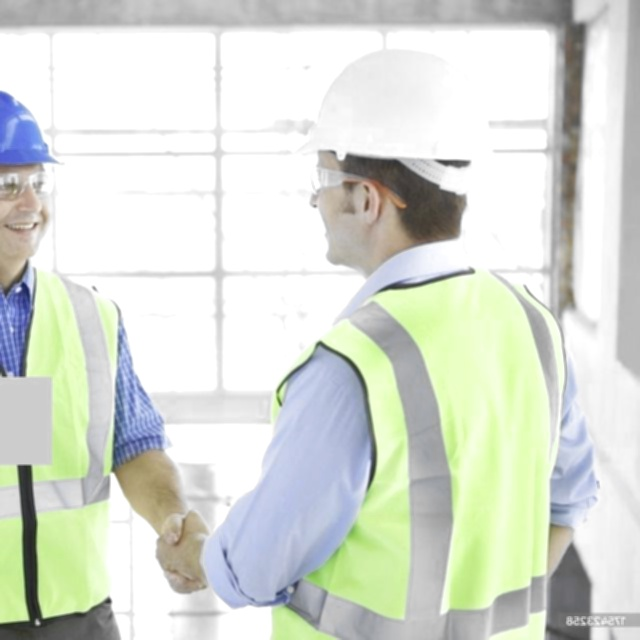Con_Casco: (297, 49, 493, 269)
Con_Chaleco: (273, 272, 571, 640), (0, 270, 136, 621)
